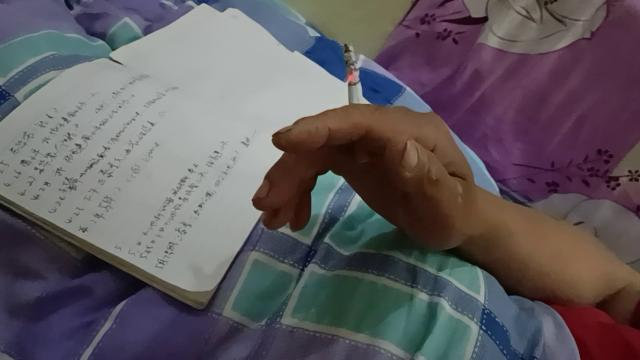Cigarette: (344, 44, 371, 164)
